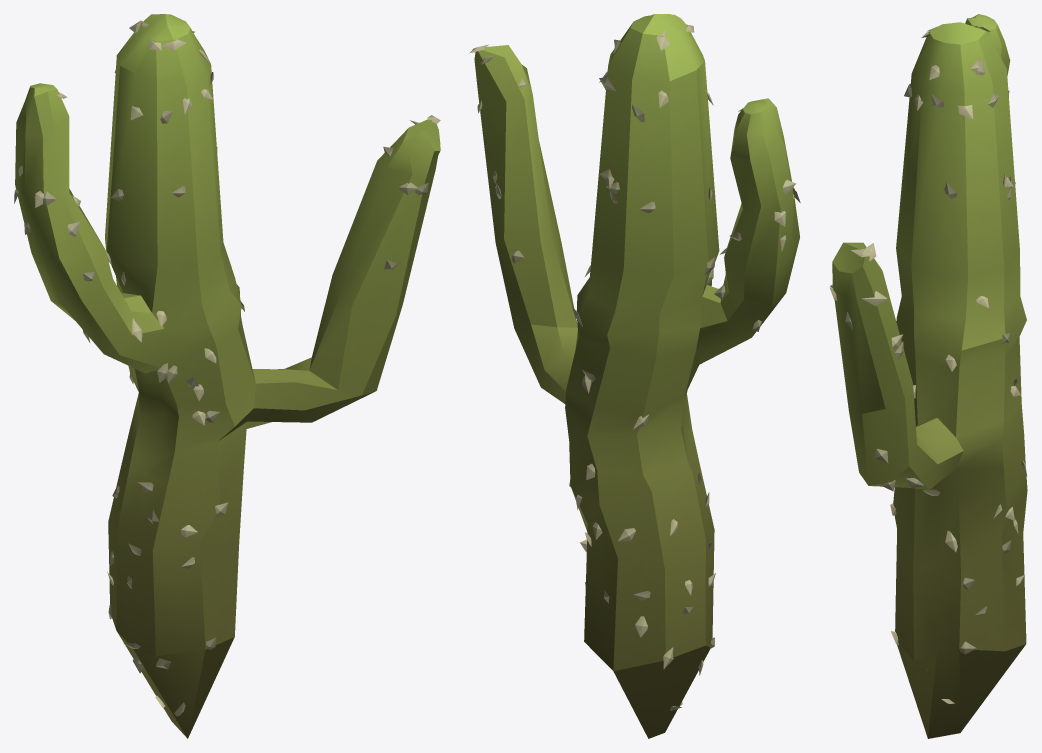
File: Cactus6.fbx
3 views of the same model, side by side, from view 1: azimuth 30°, elevation 25°; view 2: azimuth 150°, elevation 25°; view 3: azimuth 270°, elevation 25° (orthographic). The views are drawn at different scales.
Visible parts, largest first — view 1: Cactus6; view 2: Cactus6; view 3: Cactus6.
Part boxes in pixels (x1=…): Cactus6: x1=14, y1=14, x2=440, y2=738; Cactus6: x1=469, y1=14, x2=800, y2=738; Cactus6: x1=829, y1=14, x2=1027, y2=738.
Size of the model in its own units: 397 by 739 by 186.
